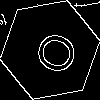O: (25, 25, 80, 78)
